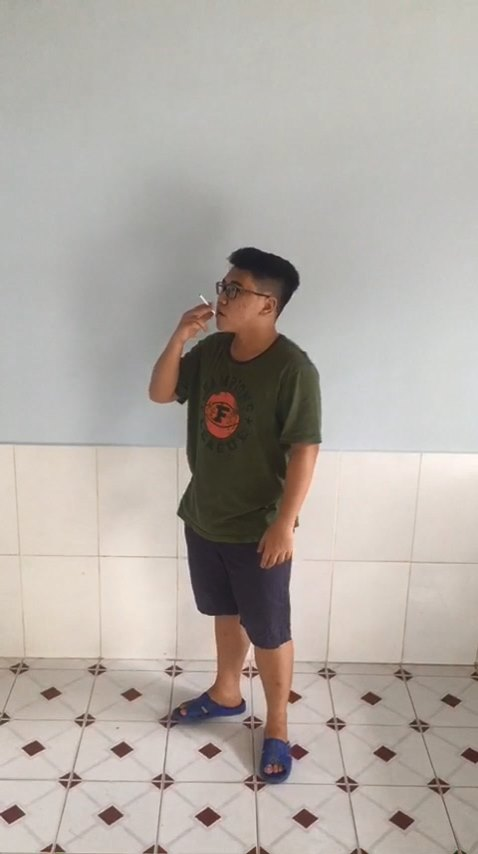cigarette: (191, 290, 225, 320)
person: (129, 222, 353, 803)
